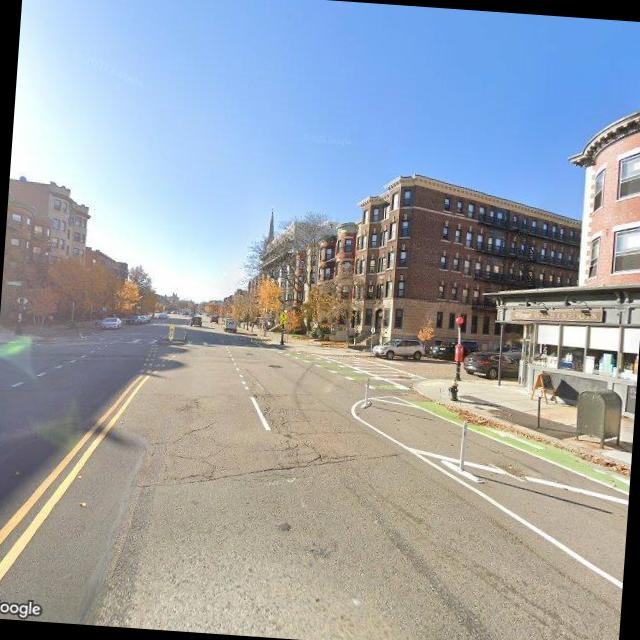crack: (137, 388, 393, 503)
